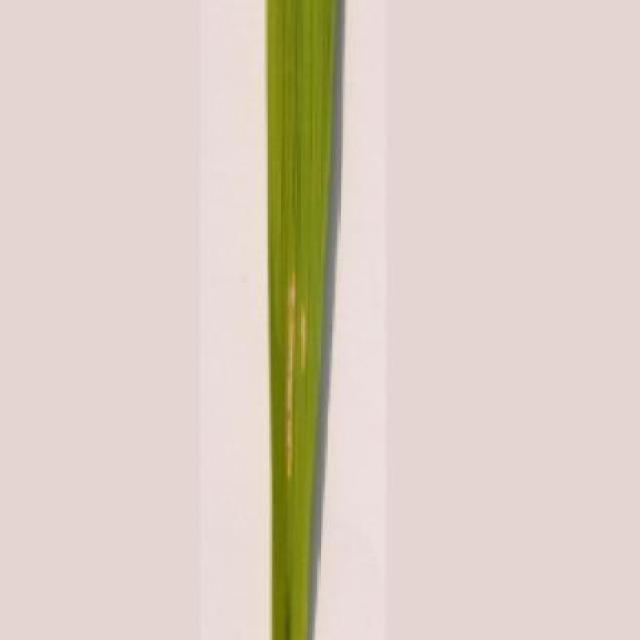Brown_Spot: (260, 0, 348, 640)
